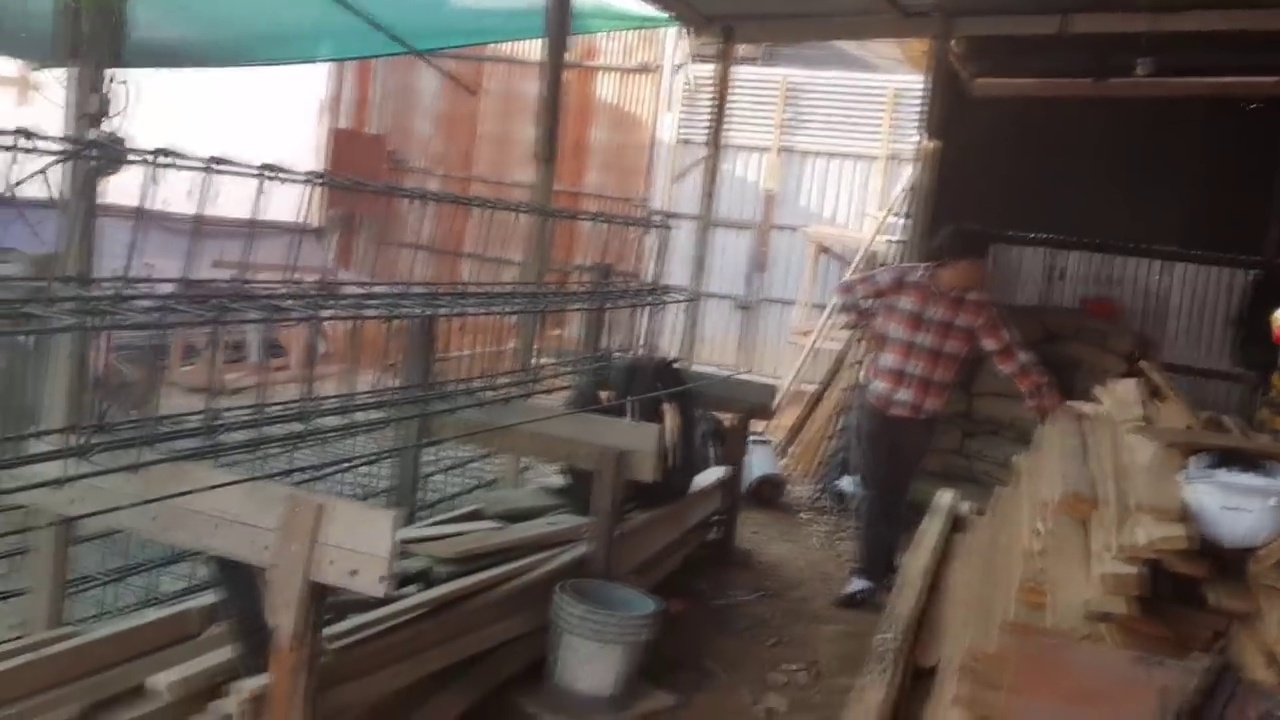helmet: (1174, 460, 1280, 556)
helmet-off: (919, 212, 998, 305)
person: (834, 207, 1056, 609)
